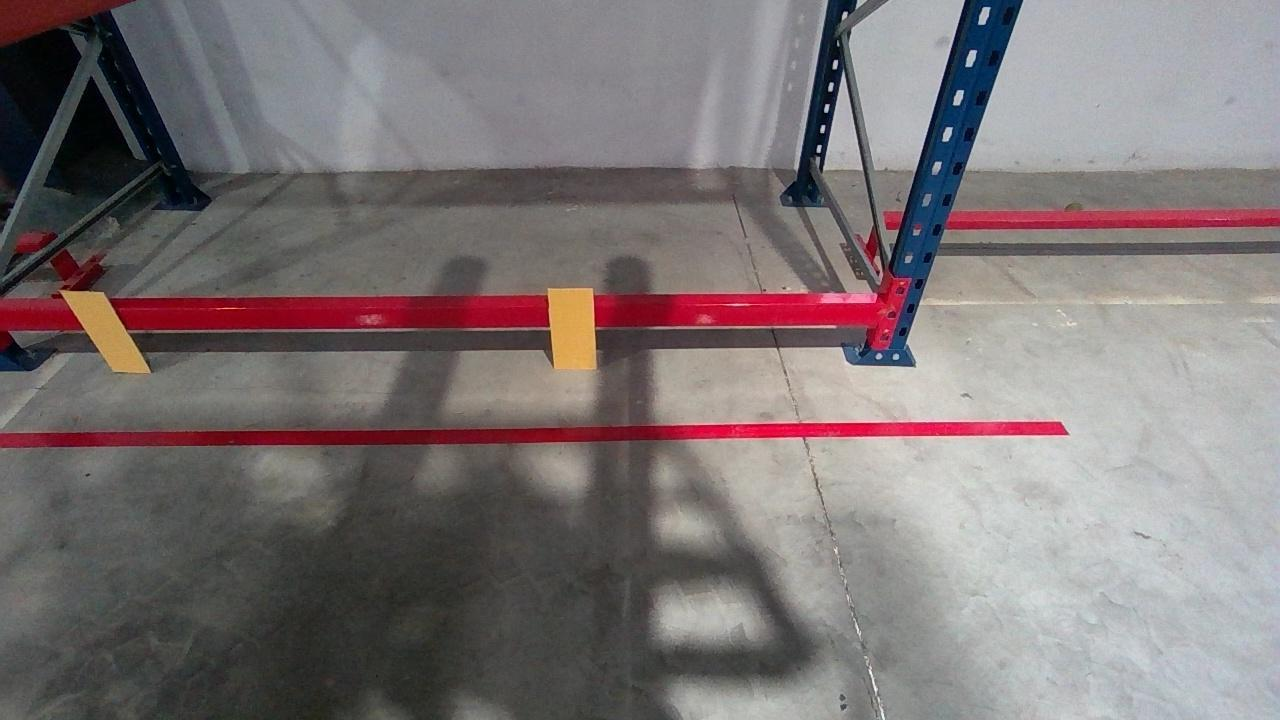h_rack: (0, 302, 883, 330)
orange_strip: (55, 290, 151, 370), (545, 288, 596, 368)
red_line: (2, 419, 1075, 447)
